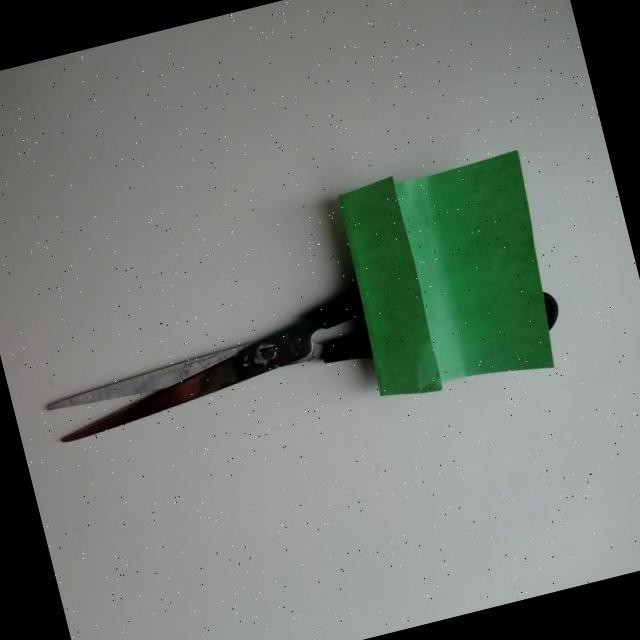scissors: (14, 193, 570, 482)
